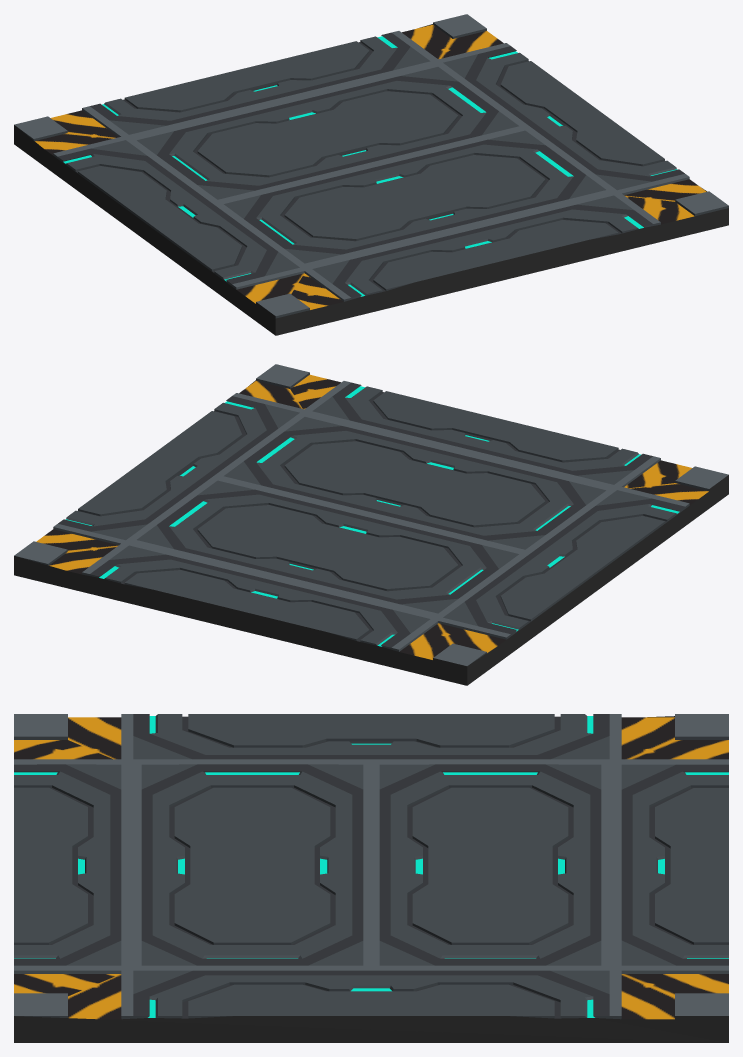
File: SM_Bld_Floor_02.fbx
The picture shows the model from 3 angles, top to bottom: view 1: azimuth 30°, elevation 25°; view 2: azimuth 150°, elevation 25°; view 3: azimuth 270°, elevation 25°; orthographic projection. The views are drawn at different scales.
Parts seen in each view (by area): view 1: SM_Bld_Floor_02; view 2: SM_Bld_Floor_02; view 3: SM_Bld_Floor_02.
Part boxes in pixels (x1,y1,x2,y2): SM_Bld_Floor_02: [14, 14, 728, 335]; SM_Bld_Floor_02: [14, 364, 728, 685]; SM_Bld_Floor_02: [14, 714, 728, 1042].
Bounding box in the file's own units: 500 × 20.68 × 500.
Materials: 1 (1 with a texture image).
